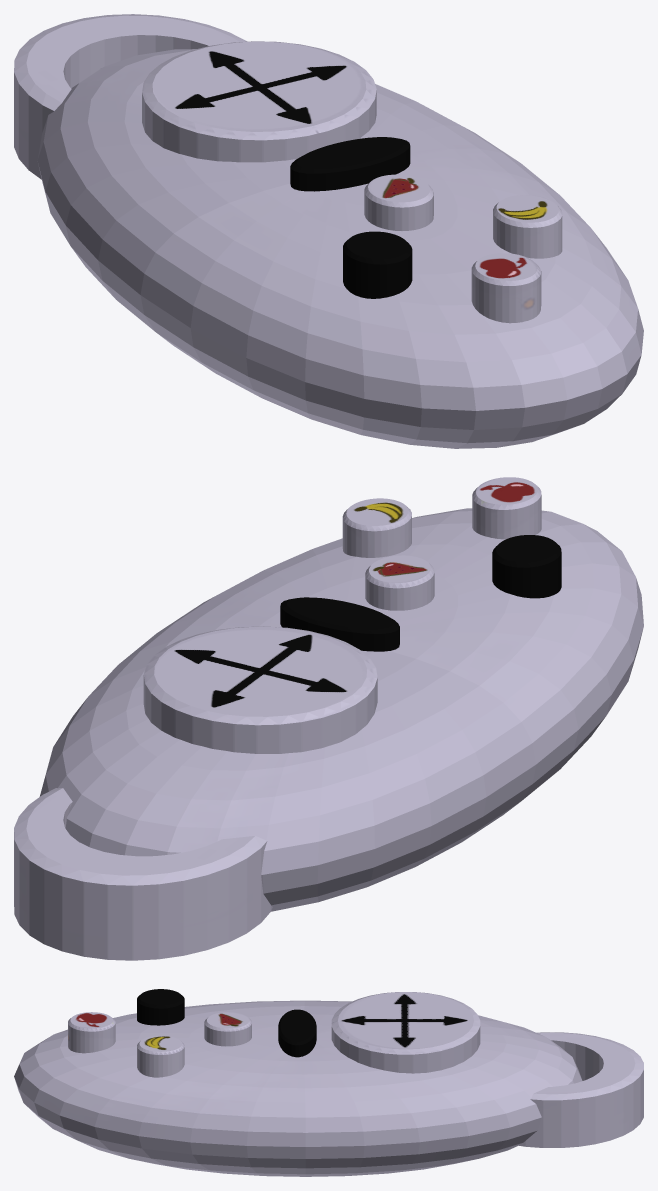
Rendered from Remote3.fbx.
3 renders of one model, top to bottom at view 1: azimuth 30°, elevation 25°; view 2: azimuth 150°, elevation 25°; view 3: azimuth 270°, elevation 25°, orthographic. The views are drawn at different scales.
Parts seen in each view (by area): view 1: Sphere, Cylinder.004, Cylinder.006, Cylinder.005, Cylinder.003, Cylinder.002, Cylinder.001, Cylinder; view 2: Sphere, Cylinder.006, Cylinder.004, Cylinder.005, Cylinder.002, Cylinder.003, Cylinder.001, Cylinder; view 3: Sphere, Cylinder.004, Cylinder.006, Cylinder.001, Cylinder.003, Cylinder.002, Cylinder.005, Cylinder.
Part boxes in pixels (<box>): Sphere: <box>37,49,643,448</box>; Cylinder.004: <box>142,41,376,162</box>; Cylinder.006: <box>14,14,247,179</box>; Cylinder.005: <box>290,137,410,191</box>; Cylinder.003: <box>471,253,541,323</box>; Cylinder.002: <box>343,231,412,298</box>; Cylinder.001: <box>493,195,562,258</box>; Cylinder: <box>364,174,433,230</box>; Sphere: <box>39,508,643,911</box>; Cylinder.006: <box>14,788,272,960</box>; Cylinder.004: <box>143,626,377,753</box>; Cylinder.005: <box>280,597,399,651</box>; Cylinder.002: <box>492,535,561,598</box>; Cylinder.003: <box>472,477,541,539</box>; Cylinder.001: <box>342,498,411,557</box>; Cylinder: <box>365,555,434,610</box>; Sphere: <box>14,1000,582,1176</box>; Cylinder.004: <box>331,992,480,1073</box>; Cylinder.006: <box>517,1032,643,1147</box>; Cylinder.001: <box>137,1035,184,1077</box>; Cylinder.003: <box>68,1012,115,1053</box>; Cylinder.002: <box>137,989,184,1025</box>; Cylinder.005: <box>278,1009,316,1057</box>; Cylinder: <box>204,1012,251,1046</box>.
Size of the model in its own units: 200 by 101 by 434.
Materials: 8 (8 with a texture image).
